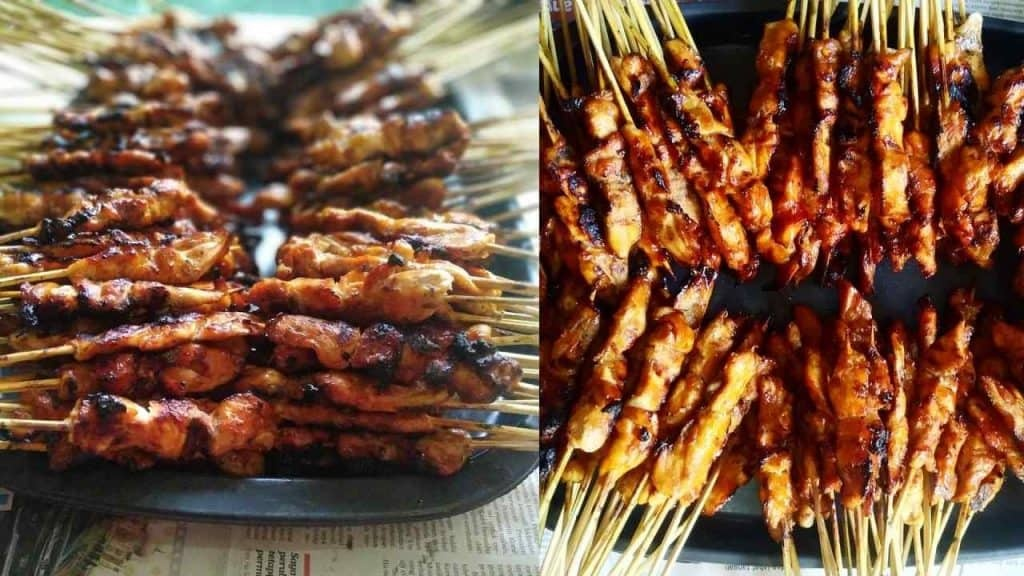sate_madura: (542, 2, 1024, 559), (1, 4, 534, 472)
